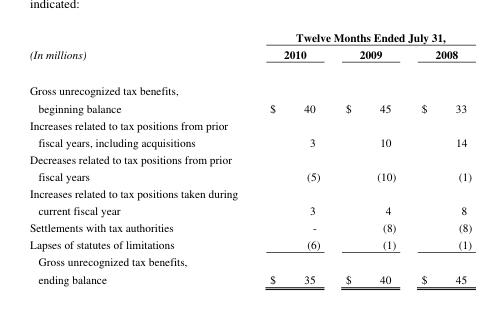table: (28, 29, 471, 286)
table column: (28, 29, 253, 286), (253, 29, 332, 286), (332, 29, 408, 286), (408, 29, 471, 286)
table column header: (28, 29, 471, 72)
table row: (28, 72, 471, 116), (28, 116, 471, 150), (28, 150, 471, 184), (28, 184, 471, 218), (28, 252, 471, 286), (28, 45, 471, 72), (28, 218, 471, 235), (28, 235, 471, 252), (28, 29, 471, 45)
table spanning cell: (28, 29, 253, 72), (253, 29, 471, 45)
